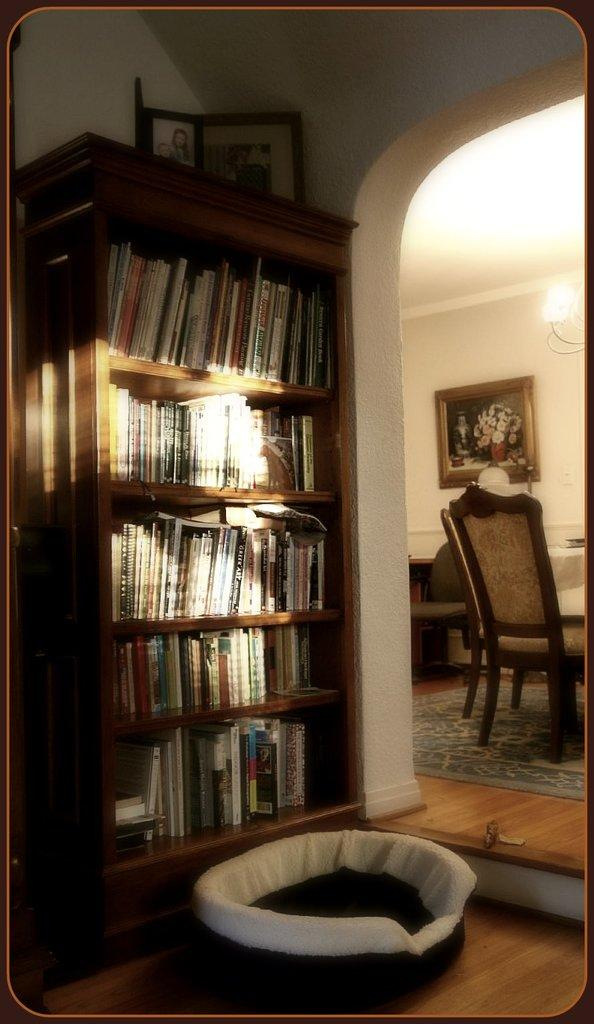Book: (111, 235, 336, 386), (120, 707, 336, 863), (104, 504, 335, 628), (97, 623, 317, 728), (98, 398, 326, 491)
